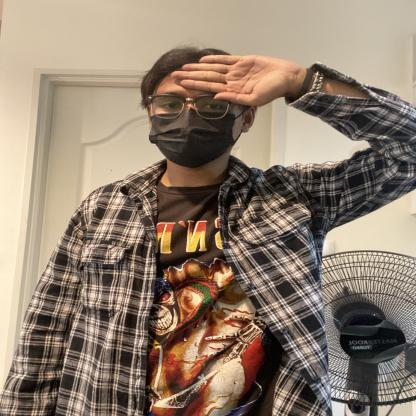Sick: (92, 23, 336, 140)
